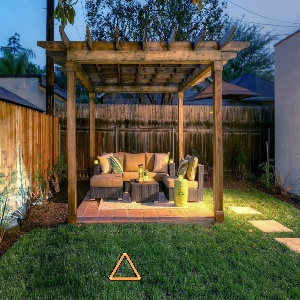triangle: (105, 249, 146, 285)
